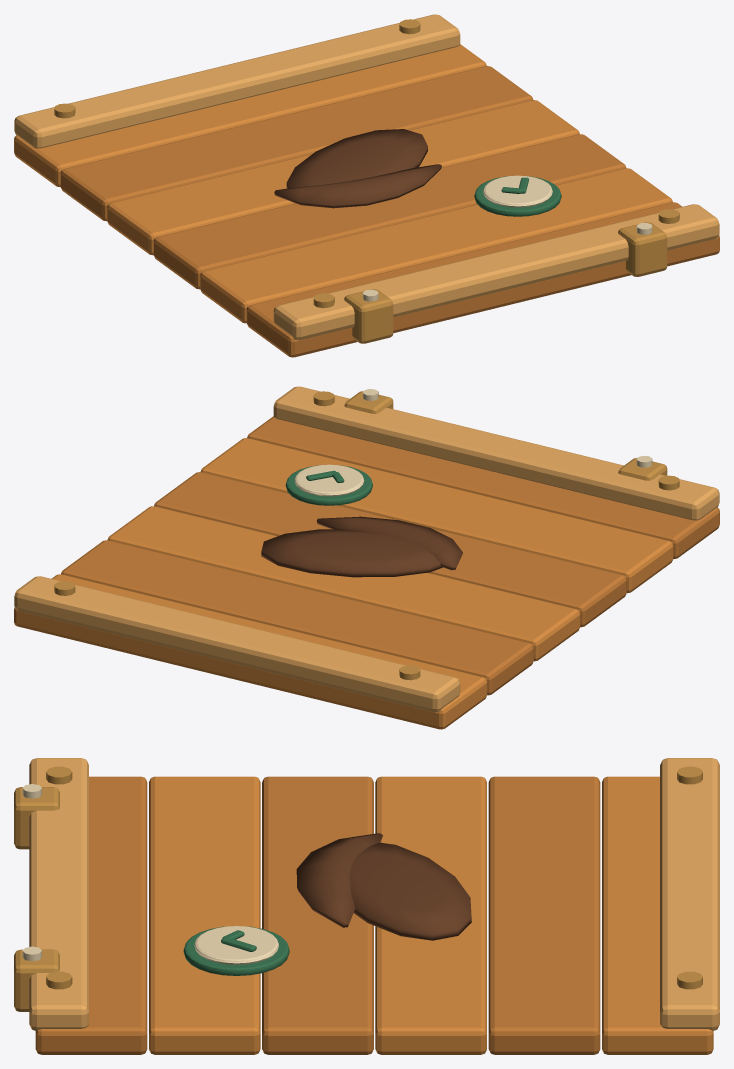
Rendered from Crate_Lid_Corn.fbx.
3 renders of one model, top to bottom at view 1: azimuth 30°, elevation 25°; view 2: azimuth 150°, elevation 25°; view 3: azimuth 270°, elevation 25°, orthographic. The views are drawn at different scales.
Visible parts, largest first — view 1: Body; view 2: Body; view 3: Body.
Boxes of the visible parts, x1,y1,x2,y2 form: Body: [14, 14, 719, 357]; Body: [14, 386, 719, 729]; Body: [14, 758, 719, 1054].
Size of the model in its own units: 1.67 by 0.182 by 1.94.
